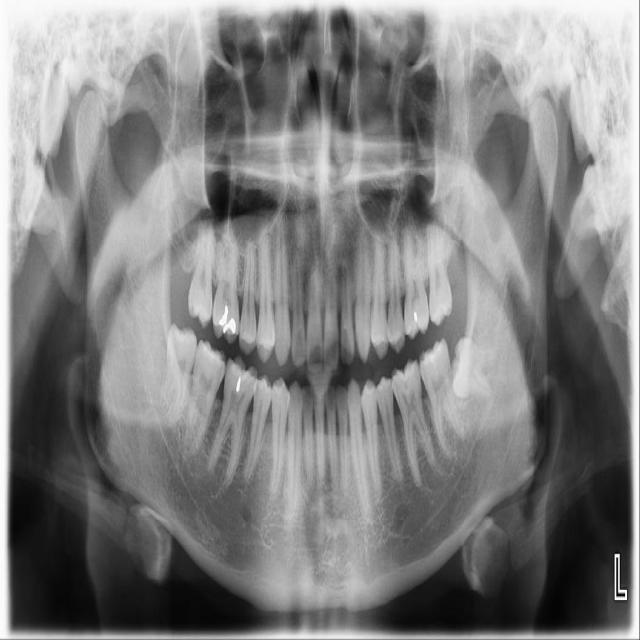Filling: (215, 304, 237, 337), (405, 307, 426, 333), (232, 372, 249, 394)
Periapical lesion: (234, 463, 259, 489), (411, 465, 424, 490), (259, 234, 274, 255)
impacted tooth: (449, 334, 517, 409), (159, 326, 199, 425)
